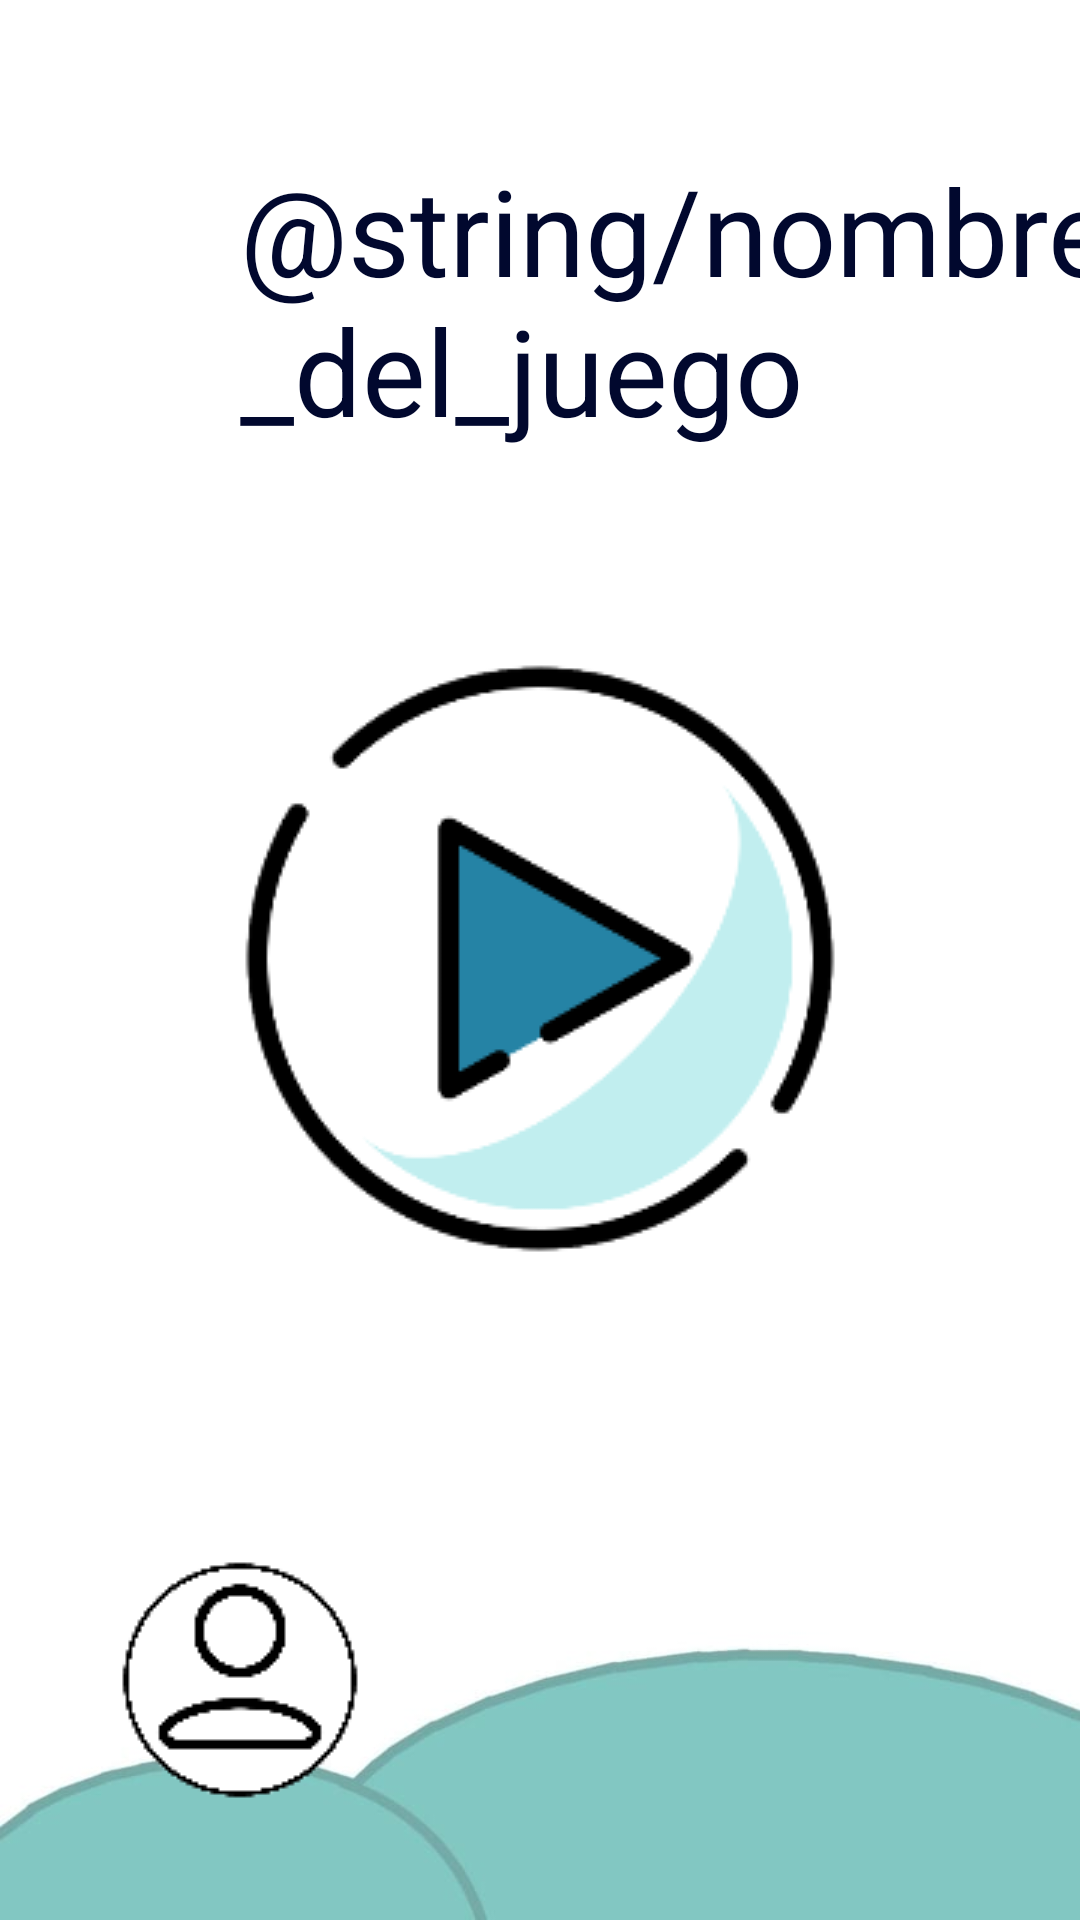

Named icons in this screenshot (1080 × 1920) and their bounding boxes, (x1, y1, x2, y2):
perfil: (120, 1562, 360, 1800)
